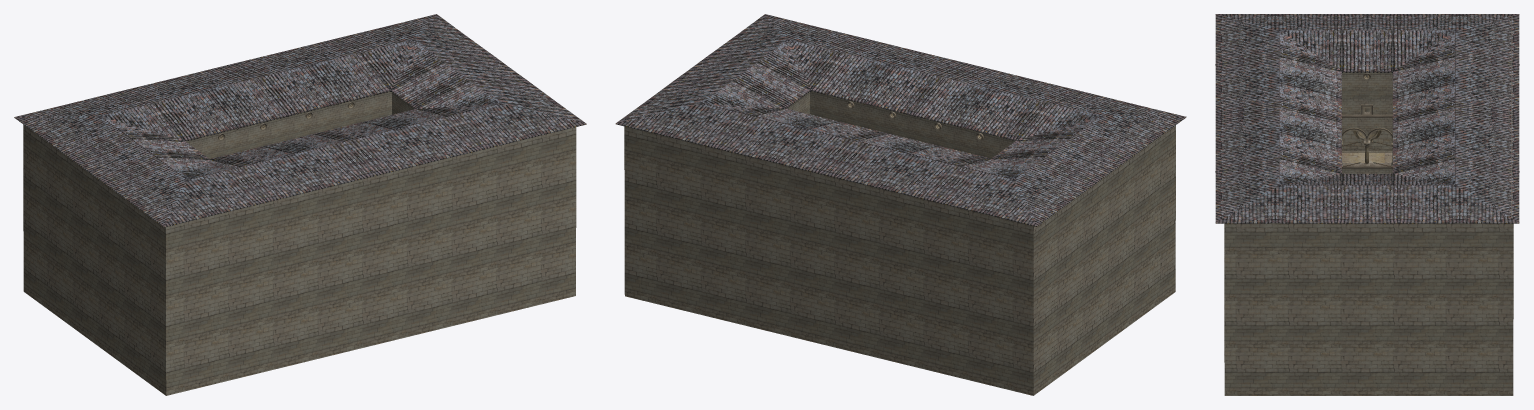
The model's file is Sponza.gltf.
3 views of the same model, side by side, from view 1: azimuth 30°, elevation 25°; view 2: azimuth 150°, elevation 25°; view 3: azimuth 270°, elevation 25° (orthographic).
Visible parts, largest first — view 1: Sponza Root; view 2: Sponza Root; view 3: Sponza Root.
Boxes of the visible parts, x1,y1,x2,y2 form: Sponza Root: [14, 14, 586, 395]; Sponza Root: [615, 14, 1186, 395]; Sponza Root: [1215, 14, 1519, 395].
Size of the model in its own units: 29.77 by 12.45 by 18.31.
25 materials, 25 textured.
